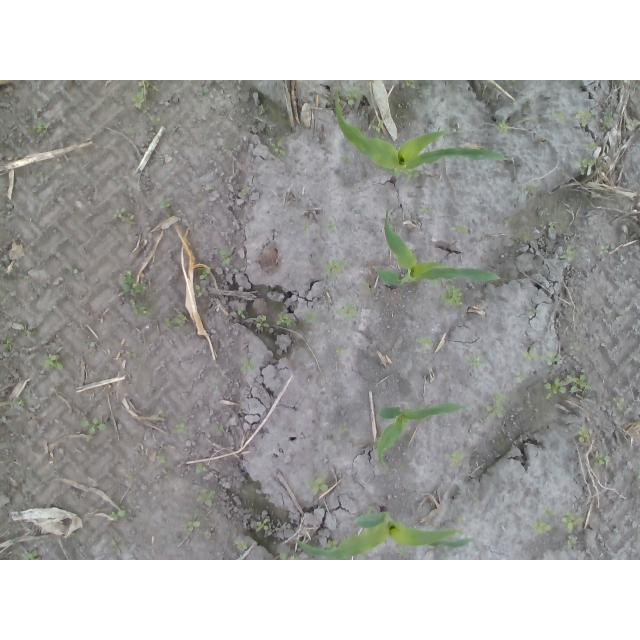Maize: (336, 97, 512, 192), (373, 210, 503, 290), (294, 508, 474, 560), (375, 401, 466, 467)
Weeds: (524, 504, 584, 533), (541, 369, 589, 396), (486, 390, 512, 419), (131, 81, 154, 112), (522, 349, 561, 366), (120, 271, 145, 293), (437, 286, 464, 306), (577, 143, 597, 170), (80, 416, 109, 433), (305, 473, 328, 494), (324, 258, 345, 280), (196, 488, 216, 509), (266, 137, 286, 157), (131, 302, 154, 318), (163, 312, 186, 328), (344, 87, 363, 106), (338, 302, 358, 320), (42, 351, 62, 369), (274, 311, 296, 327), (575, 426, 591, 446), (576, 109, 593, 127), (561, 248, 578, 265), (112, 206, 130, 222), (32, 120, 49, 136), (417, 336, 434, 352), (256, 313, 271, 330), (240, 357, 257, 372), (303, 311, 321, 325), (465, 355, 483, 369), (595, 448, 609, 465), (448, 224, 469, 235), (80, 339, 100, 350), (63, 262, 81, 274), (185, 520, 199, 535), (552, 111, 566, 126), (19, 320, 32, 336), (601, 112, 614, 128), (405, 80, 418, 96), (110, 508, 127, 520), (0, 335, 12, 352), (279, 550, 299, 560), (255, 519, 269, 533), (609, 395, 623, 409), (449, 450, 463, 464), (568, 336, 580, 352), (196, 461, 209, 475), (195, 284, 208, 297), (173, 422, 187, 434), (24, 549, 39, 560), (498, 120, 509, 134), (221, 252, 232, 265), (372, 121, 385, 132), (156, 449, 166, 463), (515, 369, 525, 383), (339, 422, 350, 434), (599, 244, 610, 256), (197, 87, 210, 97), (150, 115, 162, 125), (199, 266, 209, 278), (237, 309, 249, 319), (16, 400, 33, 407), (160, 200, 172, 209), (327, 223, 337, 233), (567, 536, 578, 545), (327, 539, 337, 548), (417, 207, 431, 213), (239, 543, 250, 550), (336, 346, 345, 353), (549, 223, 556, 232), (455, 516, 465, 522), (303, 224, 309, 233), (240, 556, 246, 560)
